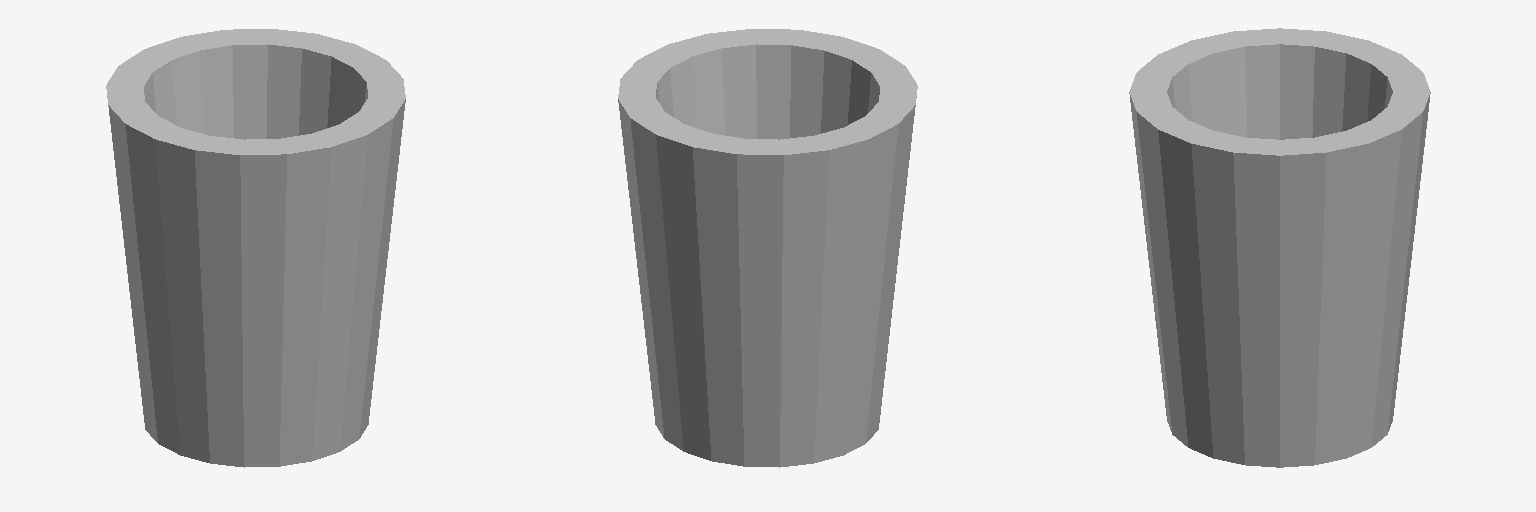
Rendered from Props_Trashcan_Geo.obj.
The picture shows the model from 3 angles: view 1: azimuth 30°, elevation 25°; view 2: azimuth 150°, elevation 25°; view 3: azimuth 270°, elevation 25°; orthographic projection.
Parts seen in each view (by area): view 1: PropZoo:pCylinder7; view 2: PropZoo:pCylinder7; view 3: PropZoo:pCylinder7.
Part boxes in pixels (left/top/right/bottom): PropZoo:pCylinder7: left=106, top=29, right=405, bottom=467; PropZoo:pCylinder7: left=618, top=29, right=917, bottom=467; PropZoo:pCylinder7: left=1129, top=28, right=1430, bottom=467.
Bounding box in the file's own units: 0.5 × 0.6 × 0.5.